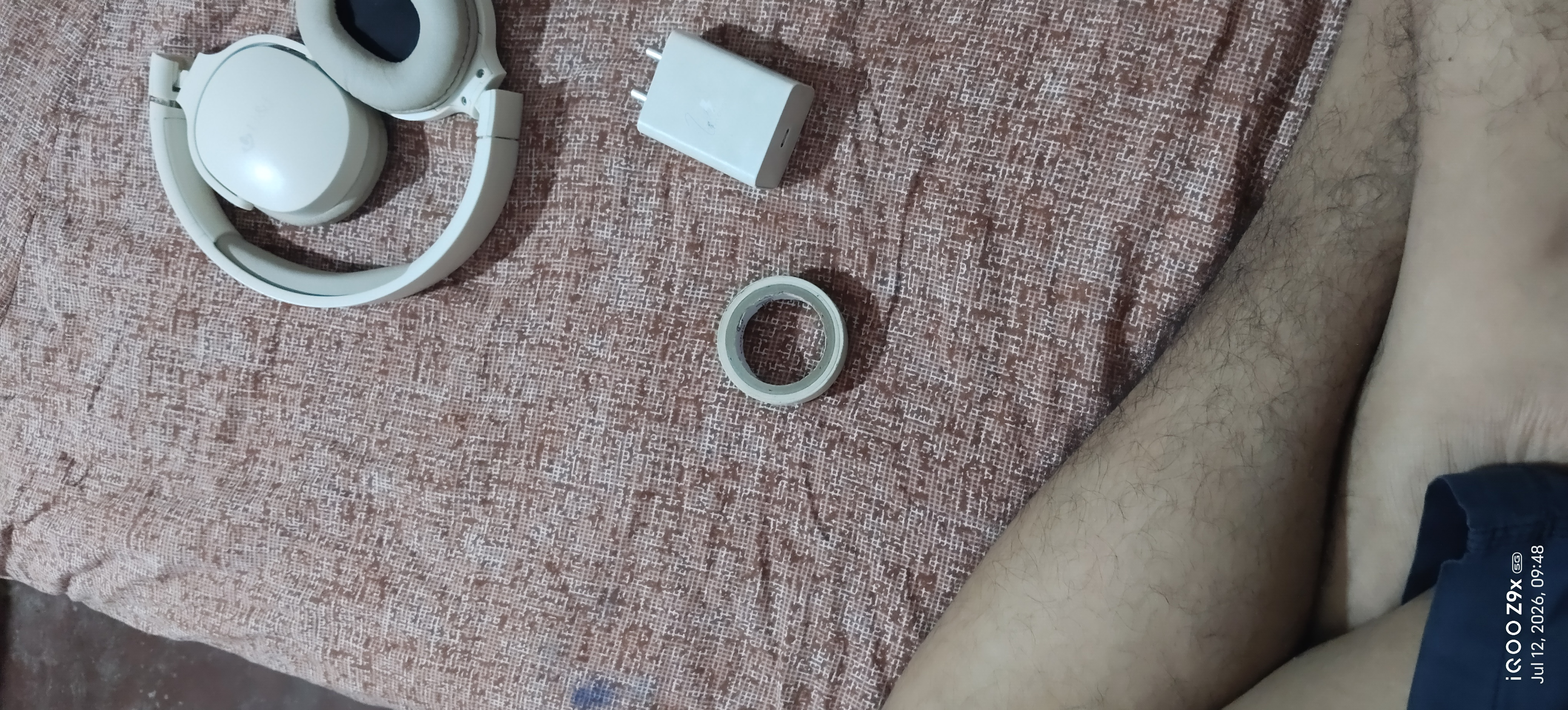charger: (613, 14, 836, 213)
tape_roll: (703, 270, 872, 421)
